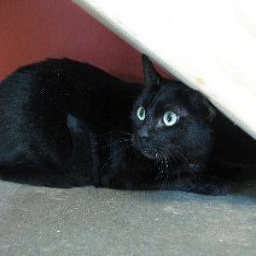cat: (1, 54, 234, 196)
